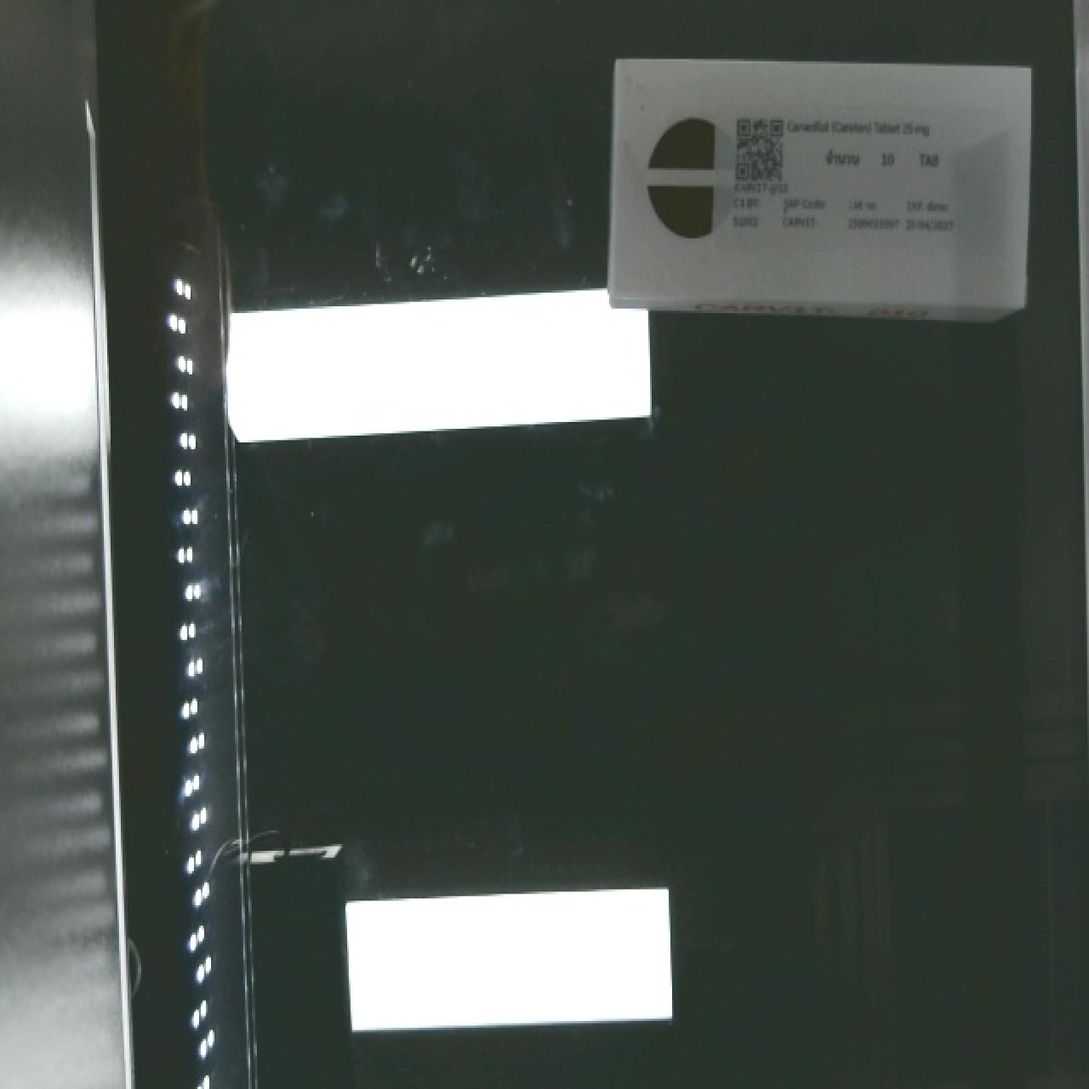qr_code: (725, 106, 800, 194)
